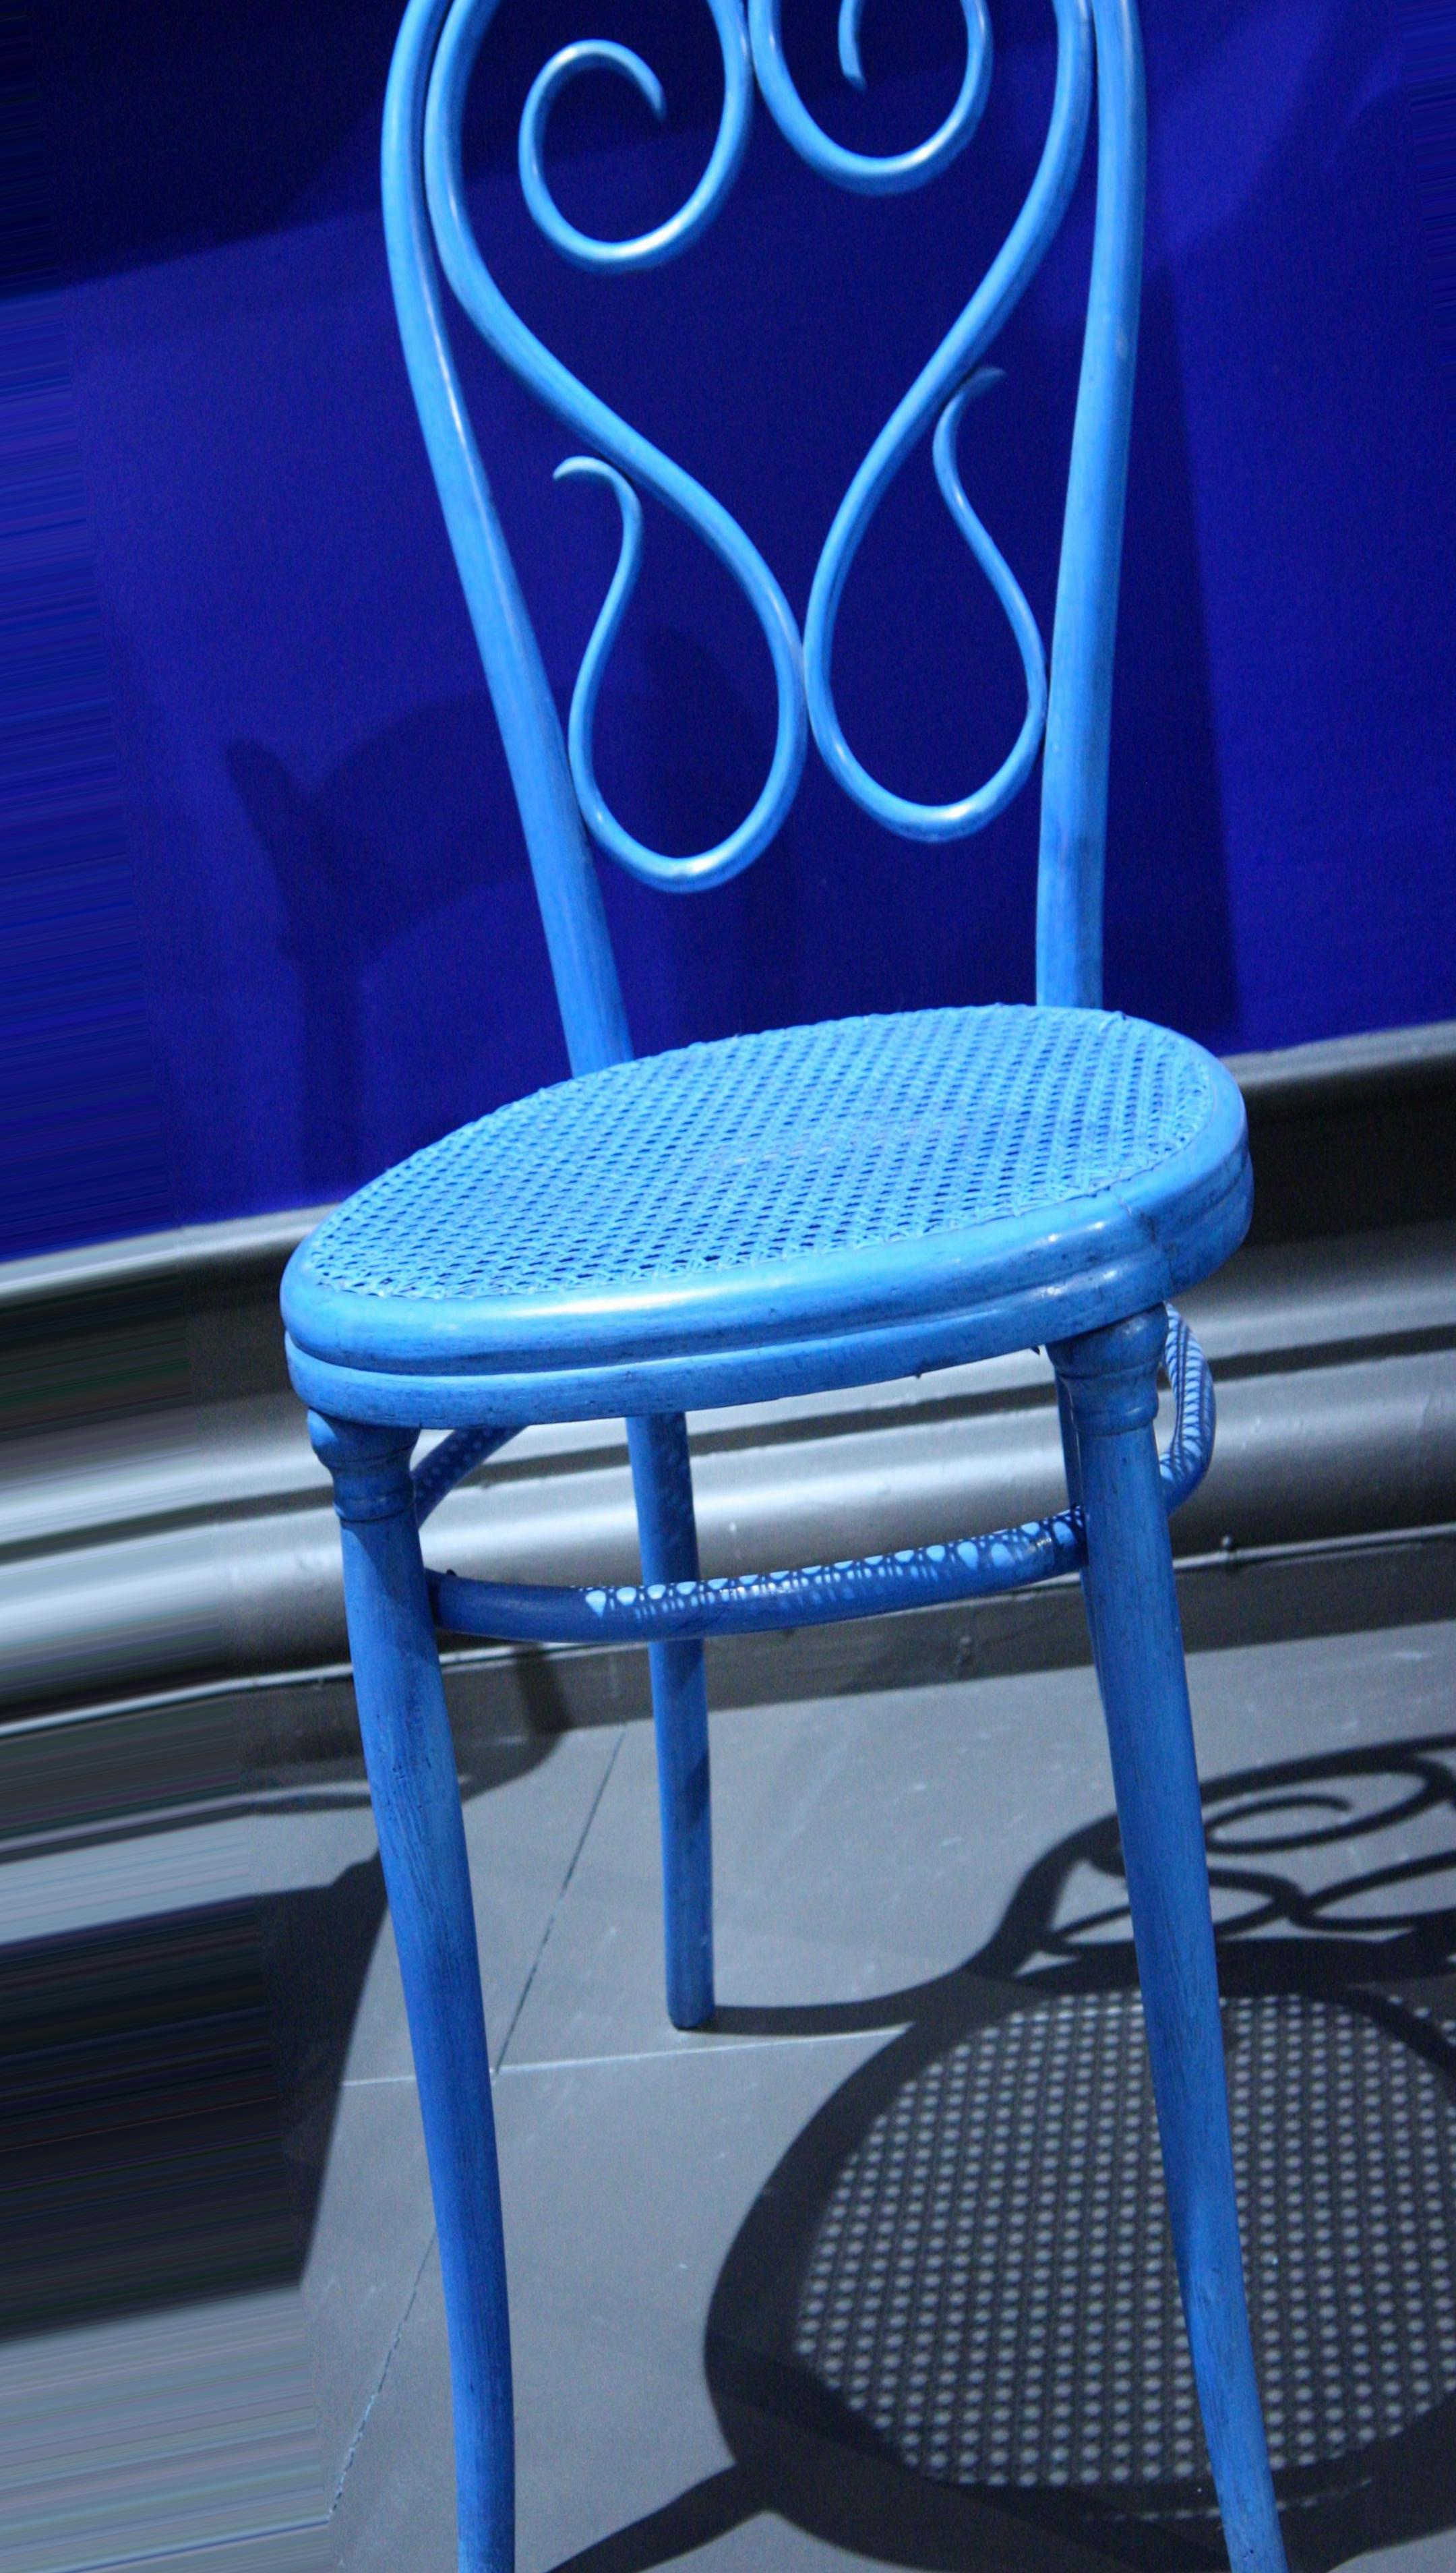chair: (276, 4, 1290, 2573)
